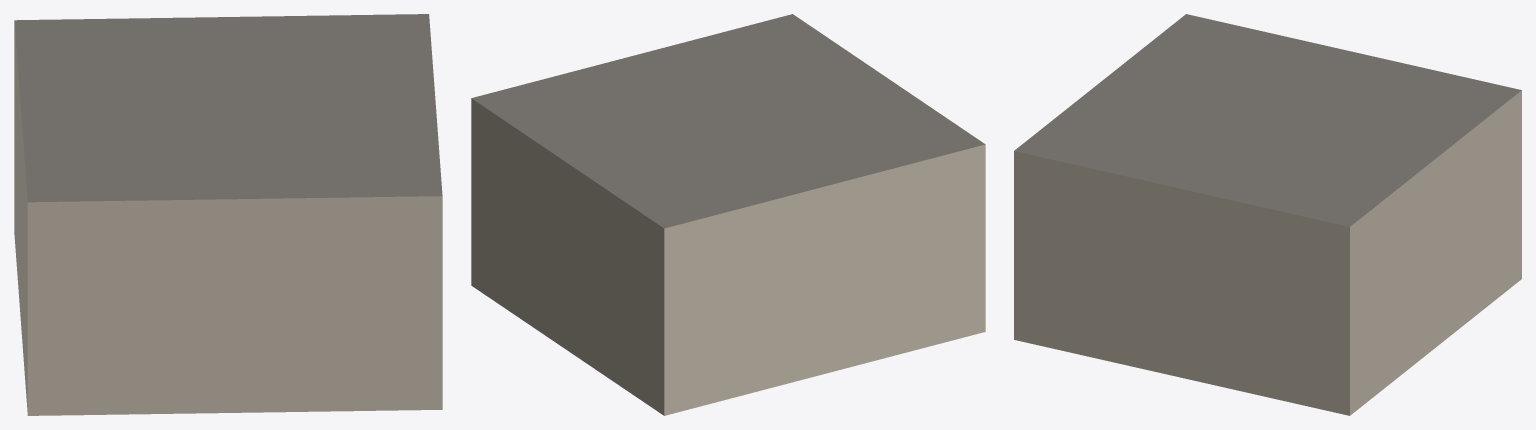
The picture shows the model from 3 angles, left to right: view 1: azimuth 30°, elevation 25°; view 2: azimuth 150°, elevation 25°; view 3: azimuth 270°, elevation 25°; orthographic projection. The views are drawn at different scales.
Parts seen in each view (by area): view 1: HP-w372180465; view 2: HP-w372180465; view 3: HP-w372180465.
Part boxes in pixels (left/top/right/bottom): HP-w372180465: left=14, top=14, right=442, bottom=415; HP-w372180465: left=471, top=14, right=985, bottom=415; HP-w372180465: left=1014, top=14, right=1521, bottom=415.
Size of the model in its own units: 43.54 by 18 by 43.86.
